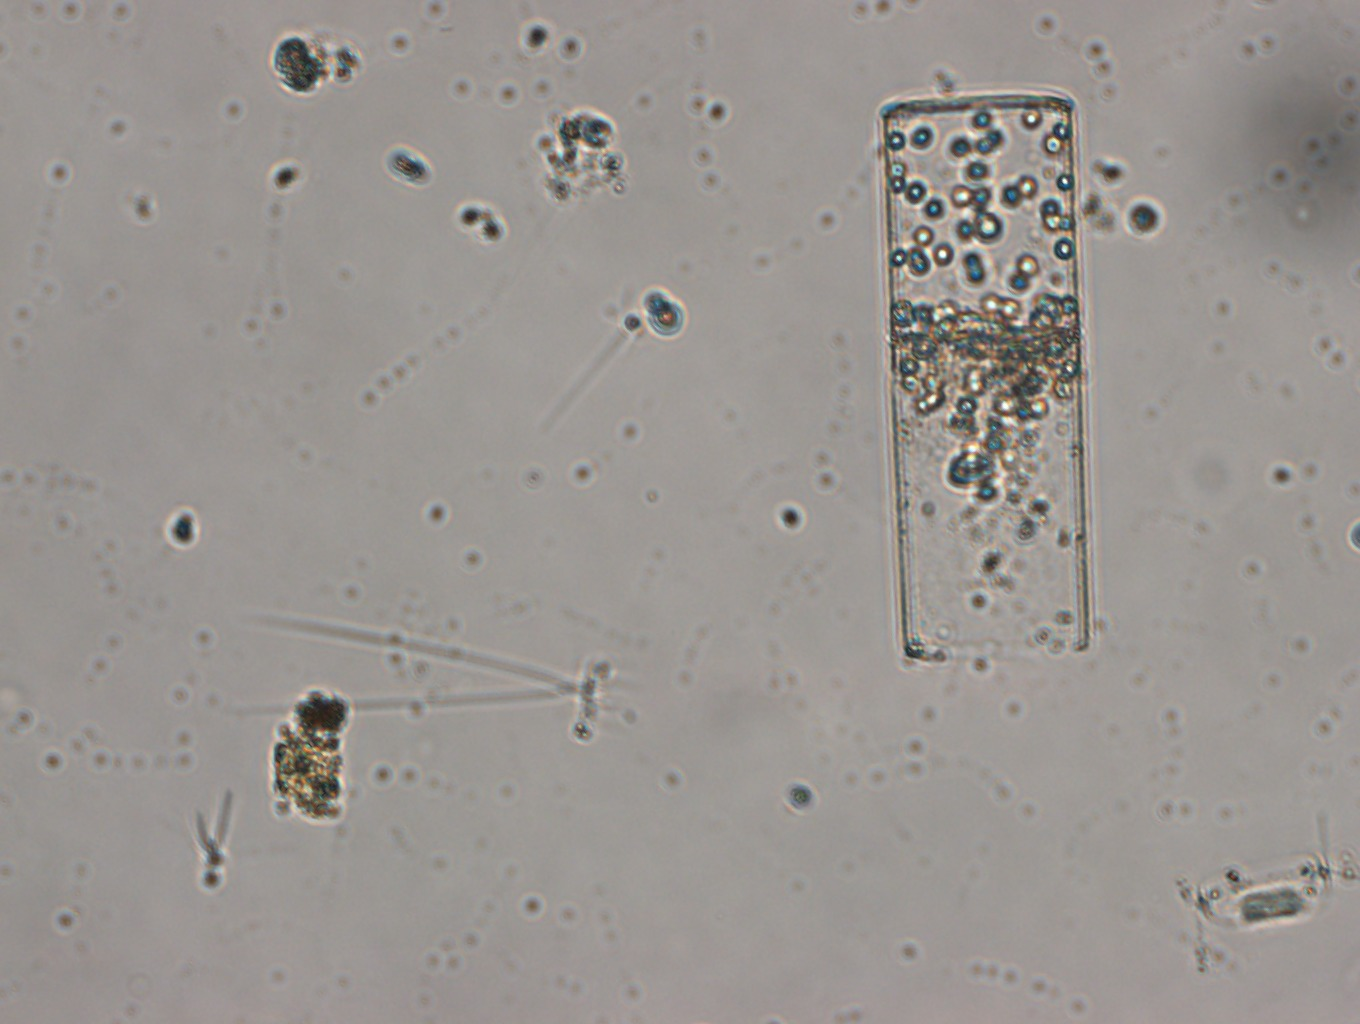guinardia flaccida: (879, 93, 1088, 656)
